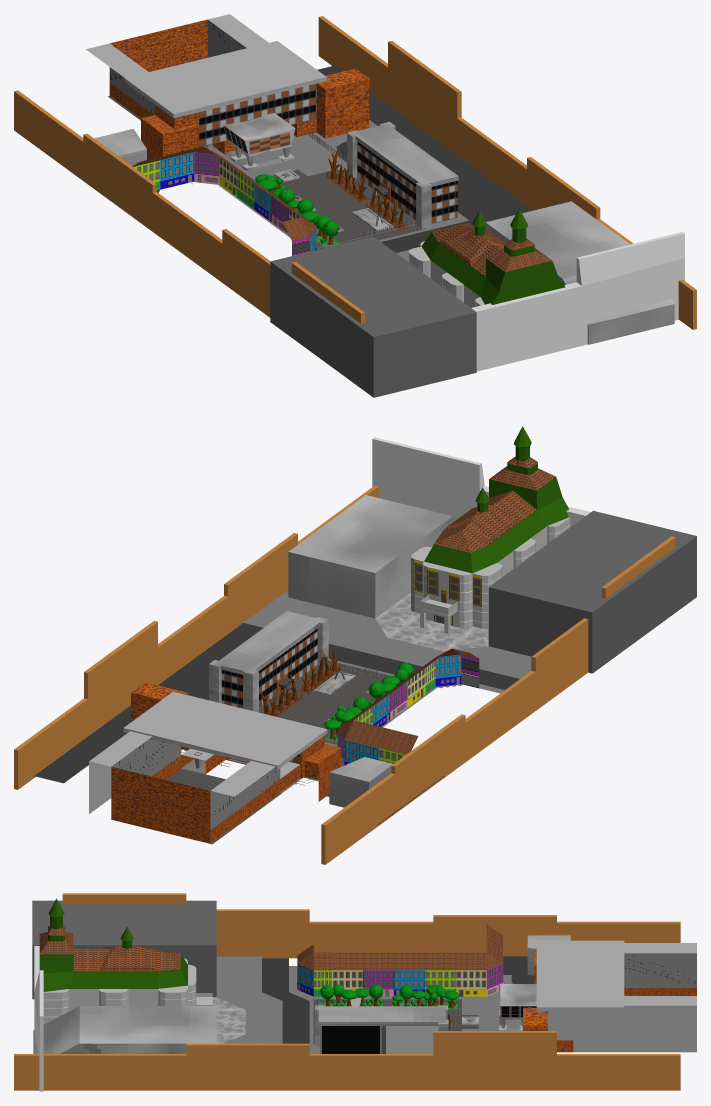
Rendered from Namesti.fbx.
3 renders of one model, top to bottom at view 1: azimuth 30°, elevation 25°; view 2: azimuth 150°, elevation 25°; view 3: azimuth 270°, elevation 25°, orthographic. The views are drawn at different scales.
Parts seen in each view (by area): view 1: Cube.011, Cube.012, Cube.008, Cube.007, Cube, Cube.013, Cube.002, Cube.010, Pavement, GroundTiles, GroundBricks, Cube.001 (+8 smaller); view 2: Cube.011, Cube.013, Cube, Cube.007, Cube.008, Cube.010, Cube.002, Cube.012, GroundBricks, Pavement, GroundTiles, Cube.003 (+8 smaller); view 3: Cube.007, Cube.008, Cube, Cube.013, Cube.011, Cube.010, GroundBricks, Cube.002, Building, Cube.003, Road, Building.004 (+12 smaller).
Part boxes in pixels (x1=…): Cube.011: x1=270, y1=236, x2=476, y2=397; Cube.012: x1=471, y1=232, x2=684, y2=371; Cube.008: x1=14, y1=90, x2=364, y2=323; Cube.007: x1=318, y1=16, x2=696, y2=329; Cube: x1=86, y1=14, x2=316, y2=159; Cube.013: x1=408, y1=208, x2=565, y2=307; Cube.002: x1=124, y1=41, x2=326, y2=118; Cube.010: x1=485, y1=201, x2=674, y2=344; Pavement: x1=317, y1=65, x2=526, y2=220; GroundTiles: x1=108, y1=96, x2=426, y2=249; GroundBricks: x1=193, y1=120, x2=468, y2=261; Cube.001: x1=316, y1=68, x2=369, y2=138; Cube.011: x1=488, y1=510, x2=696, y2=673; Cube.013: x1=411, y1=426, x2=570, y2=633; Cube: x1=89, y1=731, x2=340, y2=843; Cube.007: x1=14, y1=485, x2=378, y2=789; Cube.008: x1=321, y1=536, x2=675, y2=864; Cube.010: x1=288, y1=495, x2=458, y2=618; Cube.002: x1=123, y1=691, x2=327, y2=769; Cube.012: x1=372, y1=437, x2=590, y2=526; GroundBricks: x1=181, y1=590, x2=531, y2=792; Pavement: x1=34, y1=633, x2=248, y2=783; GroundTiles: x1=166, y1=661, x2=389, y2=844; Cube.003: x1=215, y1=611, x2=322, y2=674; Cube.007: x1=14, y1=1031, x2=680, y2=1090; Cube.008: x1=62, y1=893, x2=680, y2=958; Cube: x1=534, y1=943, x2=696, y2=1052; Cube.013: x1=39, y1=898, x2=212, y2=1024; Cube.011: x1=32, y1=900, x2=216, y2=999; Cube.010: x1=33, y1=1006, x2=216, y2=1053; GroundBricks: x1=216, y1=956, x2=522, y2=1053; Cube.002: x1=536, y1=940, x2=624, y2=1010; Building: x1=320, y1=1026, x2=438, y2=1053; Cube.003: x1=318, y1=1006, x2=445, y2=1025; Road: x1=262, y1=958, x2=309, y2=1043; Building.004: x1=456, y1=938, x2=503, y2=996.
Size of the model in its own units: 15728 by 33140 by 6746.
Materials: 23 (11 with a texture image).
